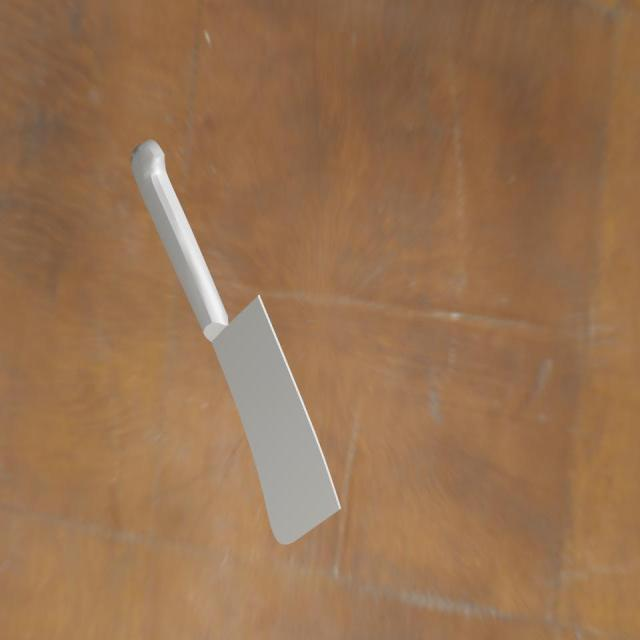knife: (122, 131, 225, 343)
